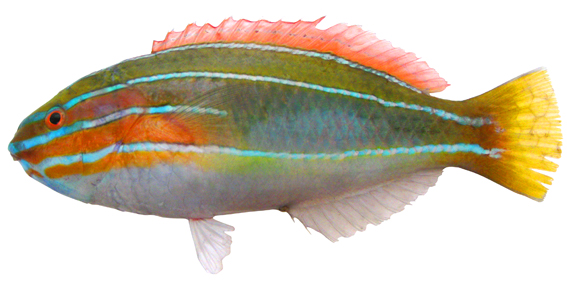fish: (8, 15, 564, 275)
